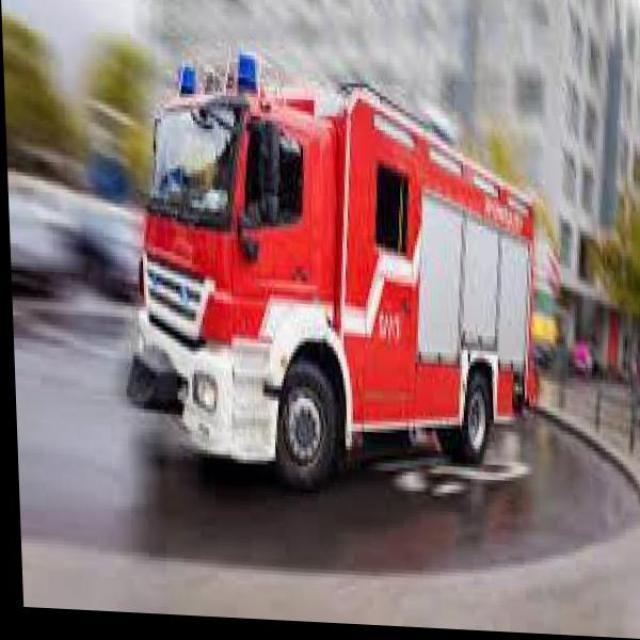emergency: (124, 49, 544, 490)
